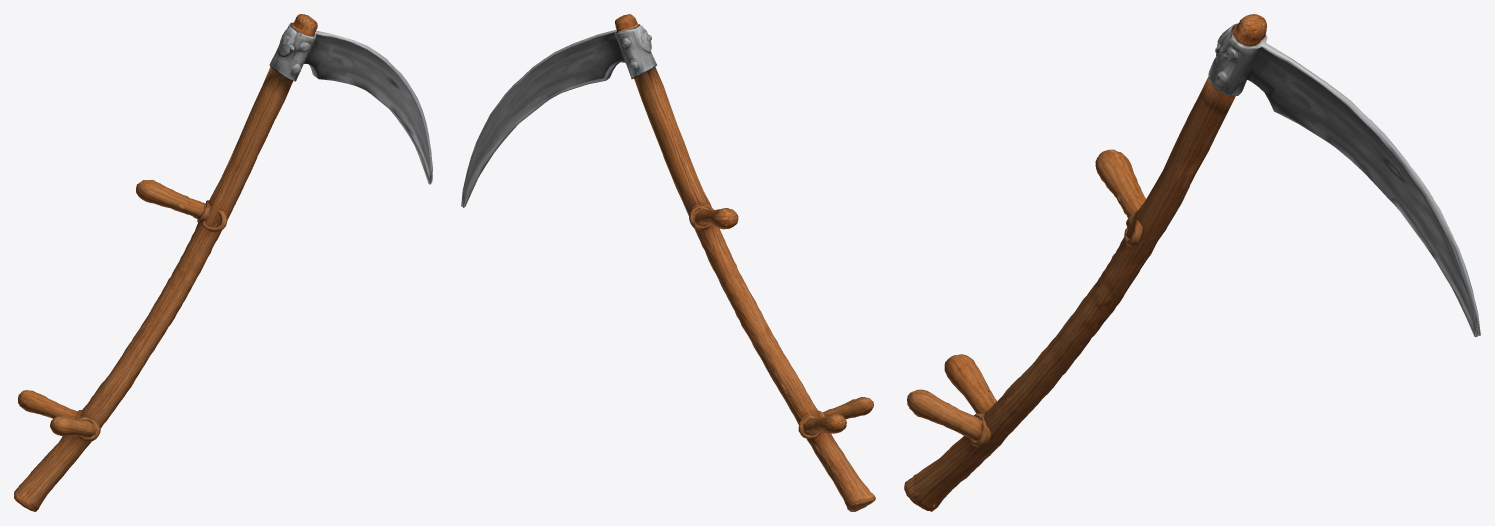
The model's file is scyth.glb.
3 renders of one model, left to right at view 1: azimuth 30°, elevation 25°; view 2: azimuth 150°, elevation 25°; view 3: azimuth 330°, elevation 25°, orthographic. The views are drawn at different scales.
Visible parts, largest first — view 1: tripo_node_5dac36fe-db87-42c3-9e54-15d11277b9f9; view 2: tripo_node_5dac36fe-db87-42c3-9e54-15d11277b9f9; view 3: tripo_node_5dac36fe-db87-42c3-9e54-15d11277b9f9.
Part boxes in pixels (x1,y1,x2,y2): tripo_node_5dac36fe-db87-42c3-9e54-15d11277b9f9: (14,14,432,511); tripo_node_5dac36fe-db87-42c3-9e54-15d11277b9f9: (461,14,875,511); tripo_node_5dac36fe-db87-42c3-9e54-15d11277b9f9: (904,14,1480,511).
Bounding box in the file's own units: 0.9793 × 0.9793 × 0.1706.
1 material, 1 textured.
